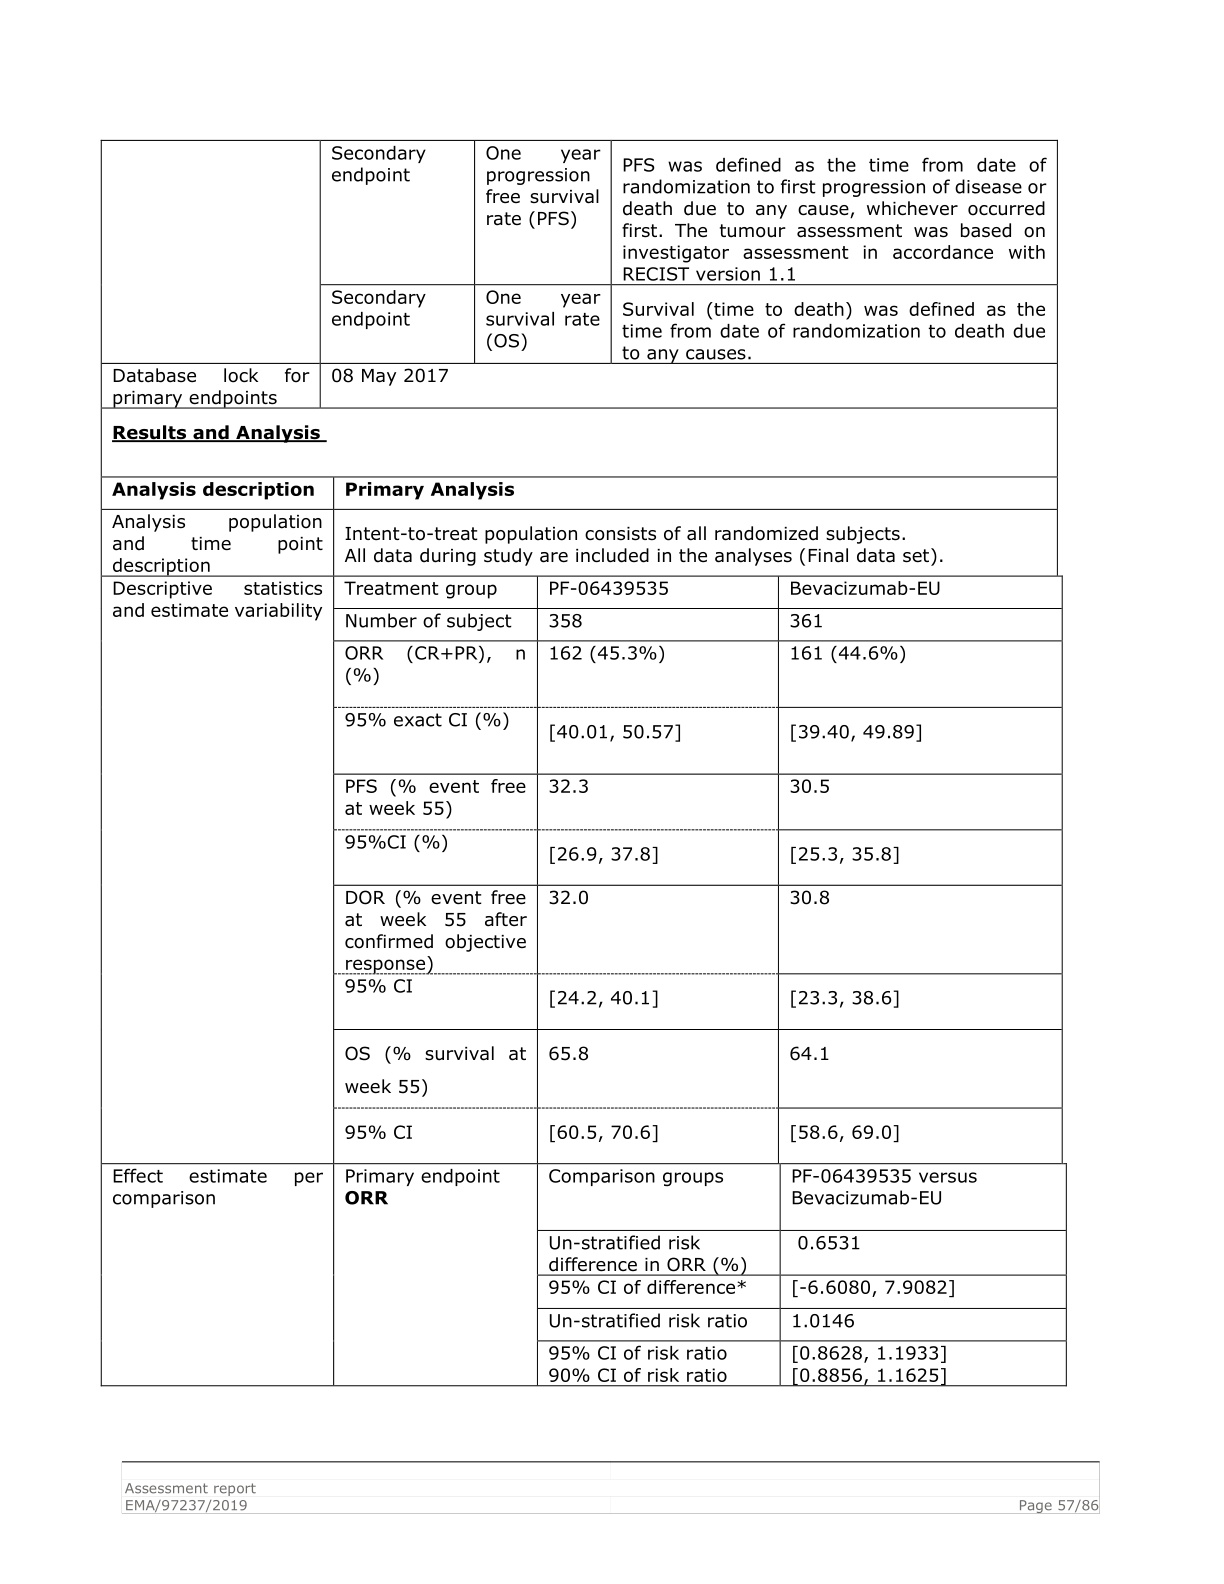merged_cells: (99, 139, 1067, 1387)
